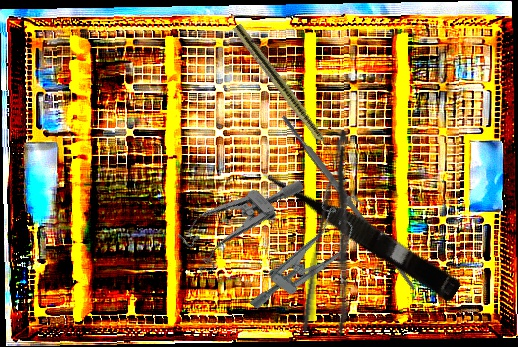Dressing Forceps: (297, 128, 382, 340)
Handpiece: (230, 22, 344, 167)
Micro Scissor: (256, 156, 466, 304)
Scalpel Handle: (280, 113, 419, 292)
Speculum: (240, 177, 376, 330), (166, 144, 308, 288)
